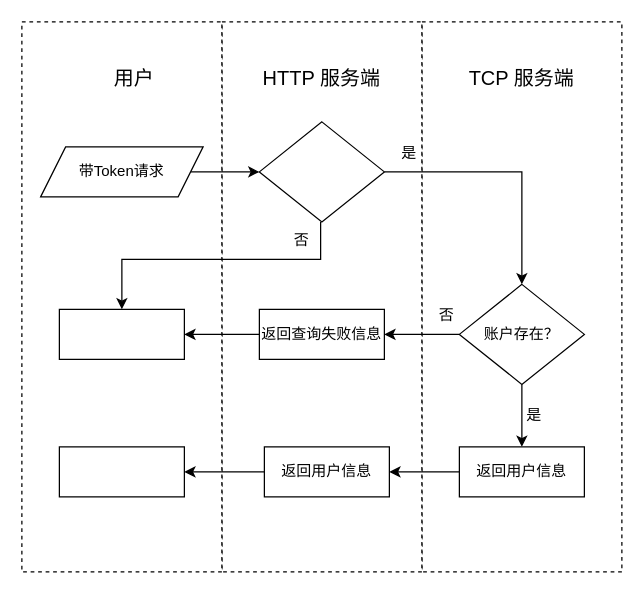
Image size: 644x594. Some labels were removed from this diagram. The centre of each missing label's shape, as x and y in pixels:
"Token 合法？" belongs at pixel 321 171.
"用户查询失败" belongs at pixel 121 333.
"用户查询成功" belongs at pixel 121 471.
